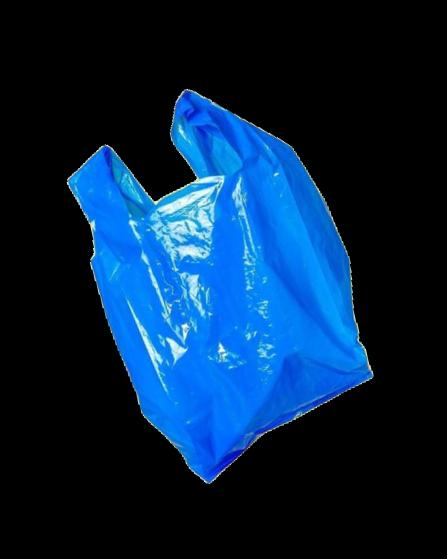Plastik: (48, 63, 394, 504)
